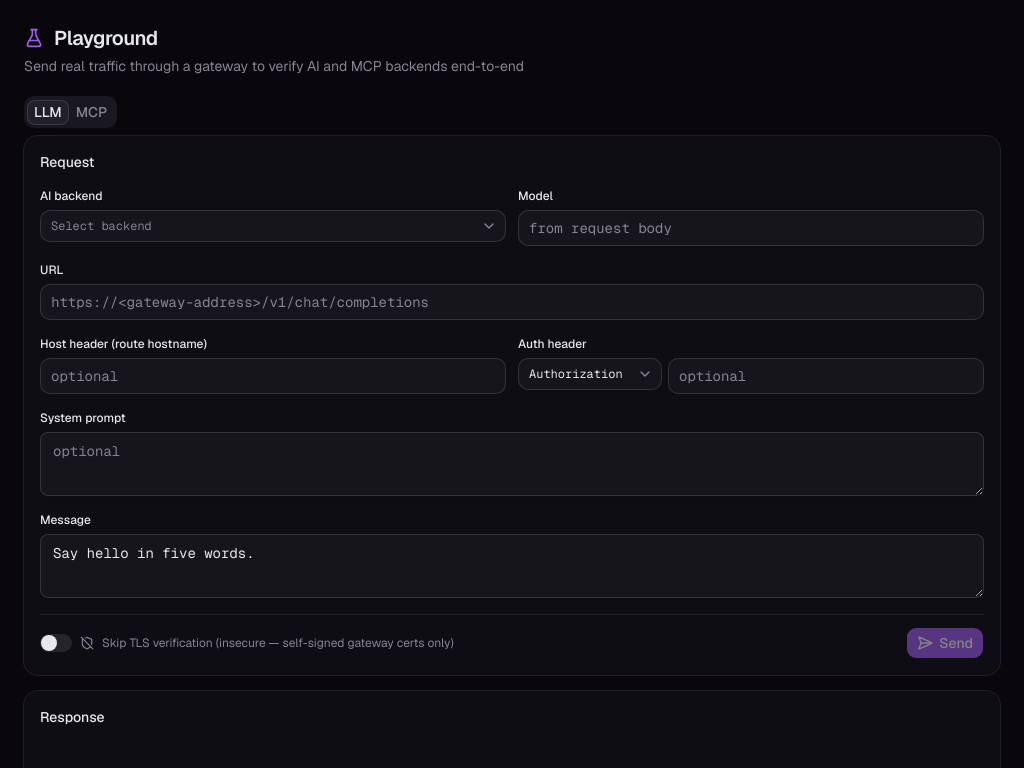
Test: PlaygroundPage › sends the chat completion and renders the assistant reply with latency and usage
Click the dropdown labelled "Select backend": (101, 226) [40, 210, 506, 242]
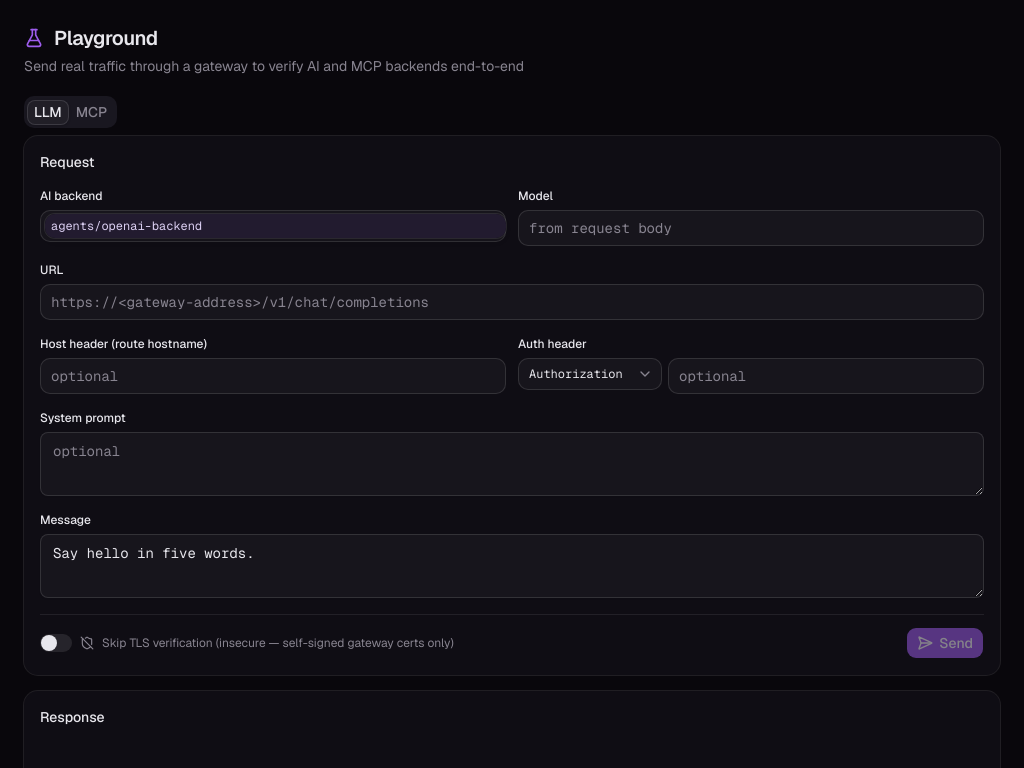
Click the option "agents/openai-backend": (73, 226) [45, 214, 506, 238]
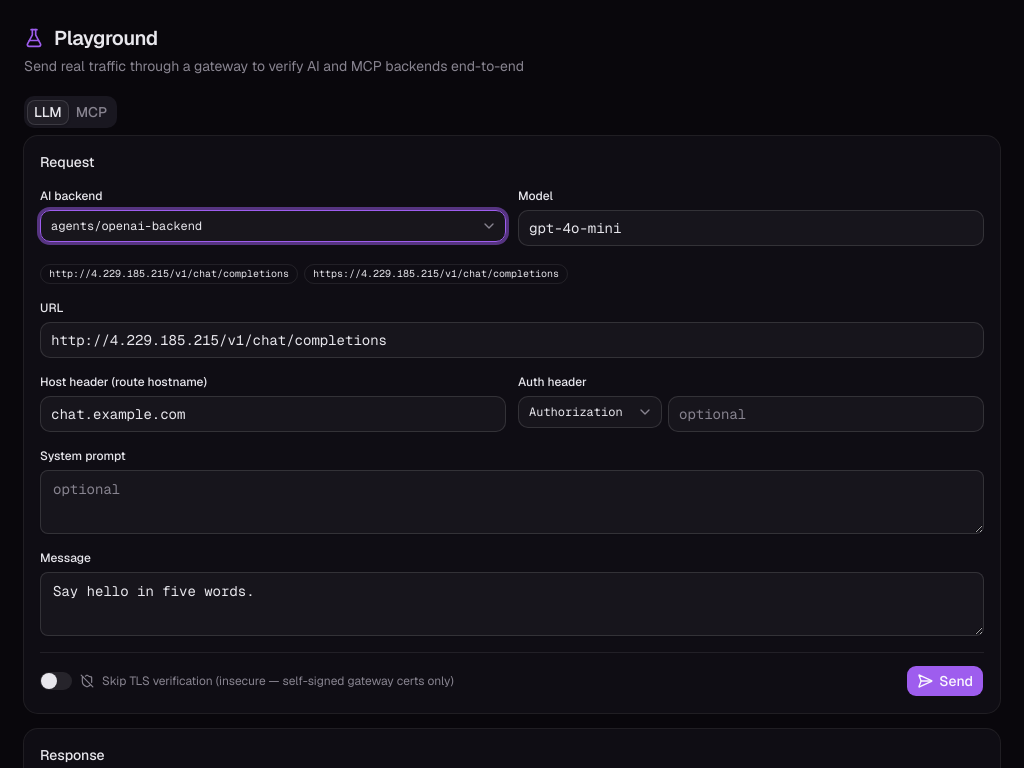
Expected: the field showing "chat/completions" below "URL" is shown, [40, 322, 984, 358]
Click the button "Send": (945, 681) [906, 665, 984, 697]
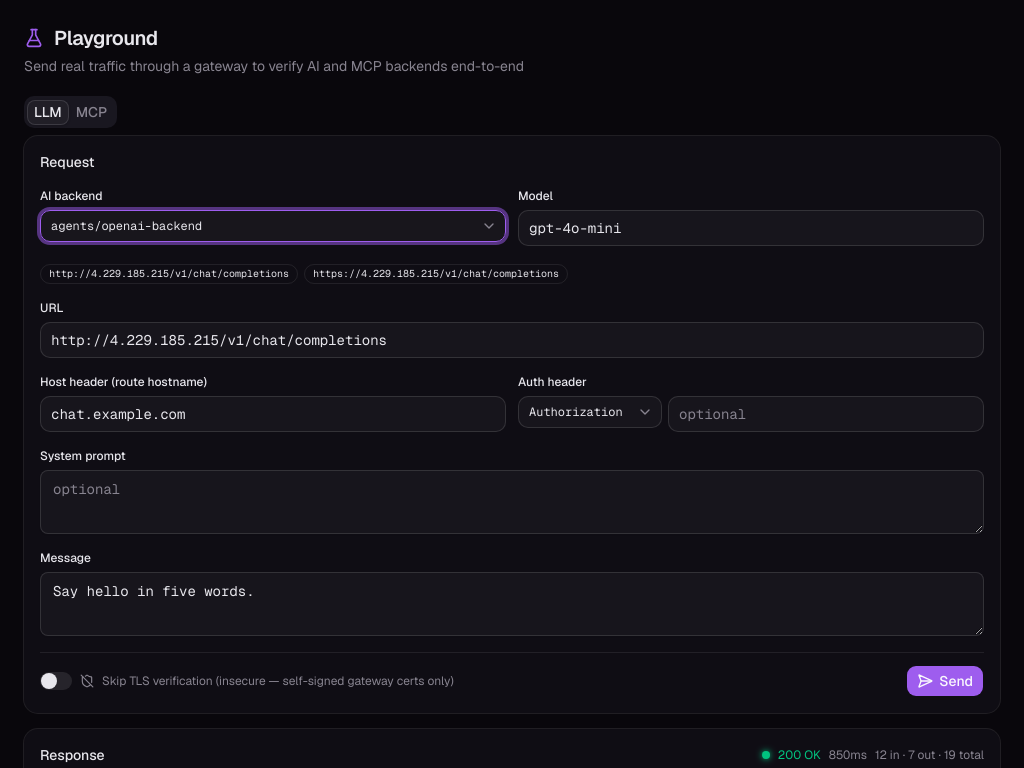
Result: the text "200 OK" is shown at [778, 747, 821, 763]
Result: the text "850ms" is shown at [829, 747, 867, 763]
Result: the text "12 in · 7 out · 19 total" is shown at [875, 747, 984, 763]
